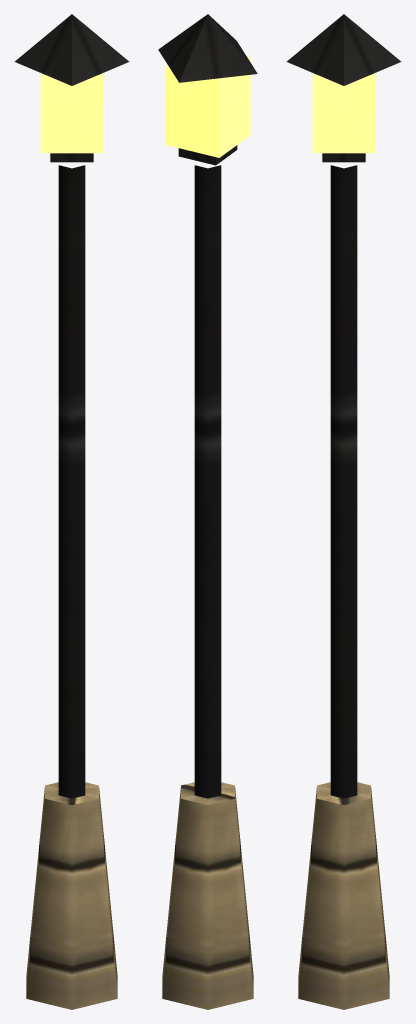
The model's file is street_lamp.glb.
3 views of the same model, side by side, from view 1: azimuth 90°, elevation 25°; view 2: azimuth 150°, elevation 25°; view 3: azimuth 270°, elevation 25° (orthographic).
Visible parts, largest first — view 1: props_0_0; view 2: props_0_0; view 3: props_0_0.
Part boxes in pixels (x1=…): props_0_0: x1=14, y1=14, x2=129, y2=1009; props_0_0: x1=158, y1=14, x2=257, y2=1009; props_0_0: x1=286, y1=14, x2=401, y2=1009.
Size of the model in its own units: 0.48 by 4.48 by 0.48.
Materials: 2 (2 with a texture image).
